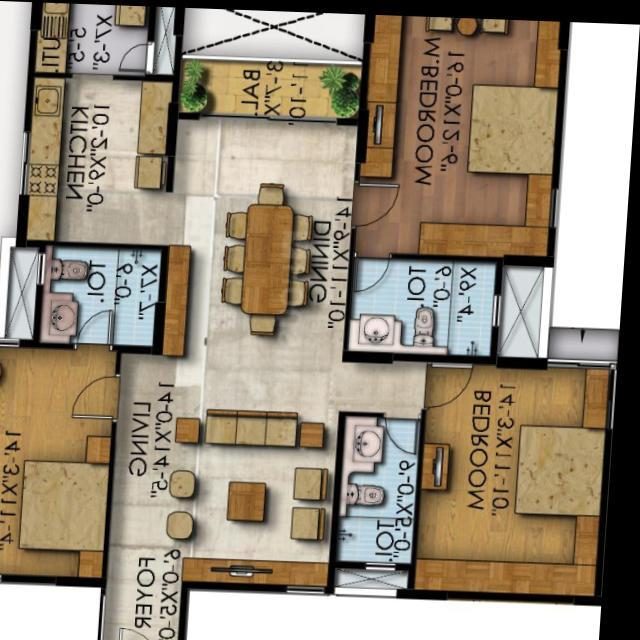Balcony-Sitout: (174, 51, 362, 122)
Bedroom: (421, 347, 621, 598)
Bedroom with Toilet: (350, 11, 564, 357), (0, 243, 168, 581)
Dining: (221, 173, 328, 340)
Enterance-Foyer: (111, 551, 190, 640)
Kitchen: (19, 76, 182, 245)
Living: (116, 350, 346, 590)
Toilet: (336, 406, 430, 595), (353, 257, 500, 351), (43, 246, 164, 343)
Utility: (31, 1, 179, 81)
